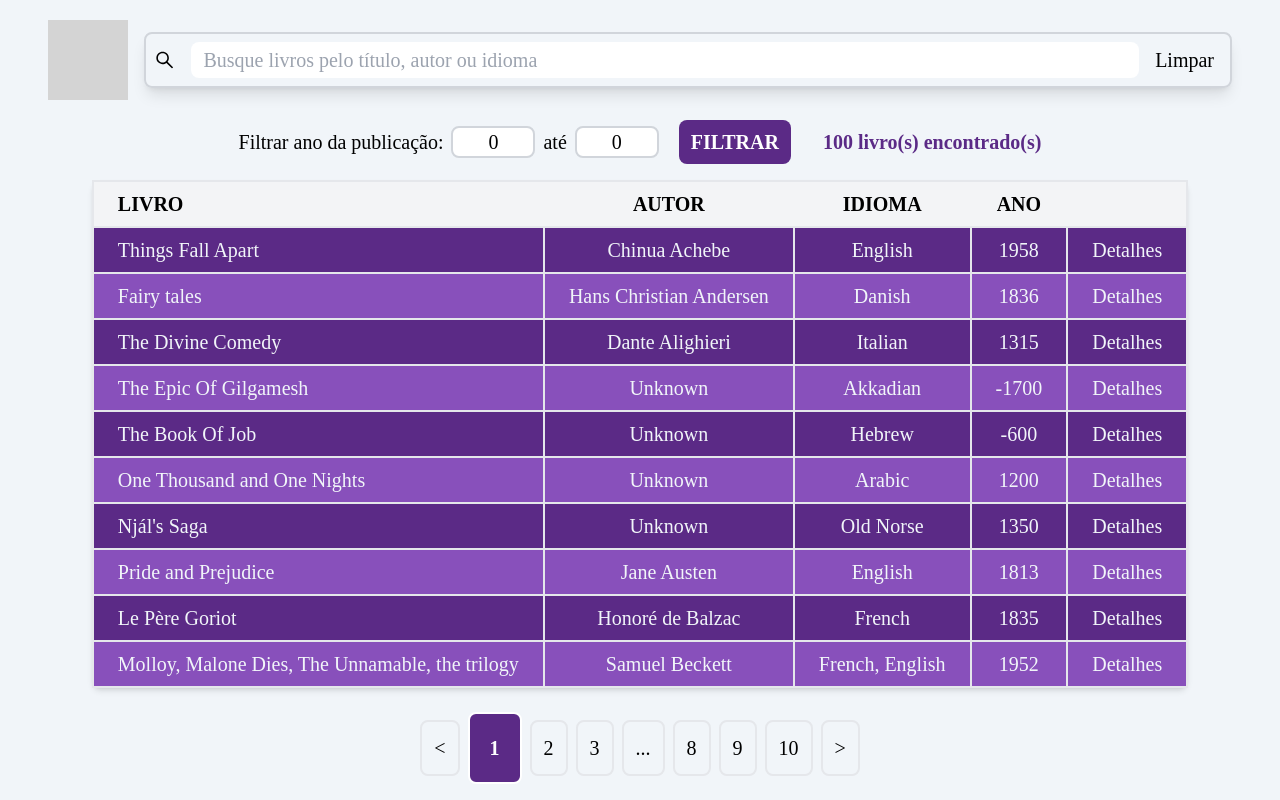
tests in book table › tests in pagination list › should render 10 different books when the pagination button is clicked
Click the list item ">" at (841, 748), box [821, 720, 860, 776]
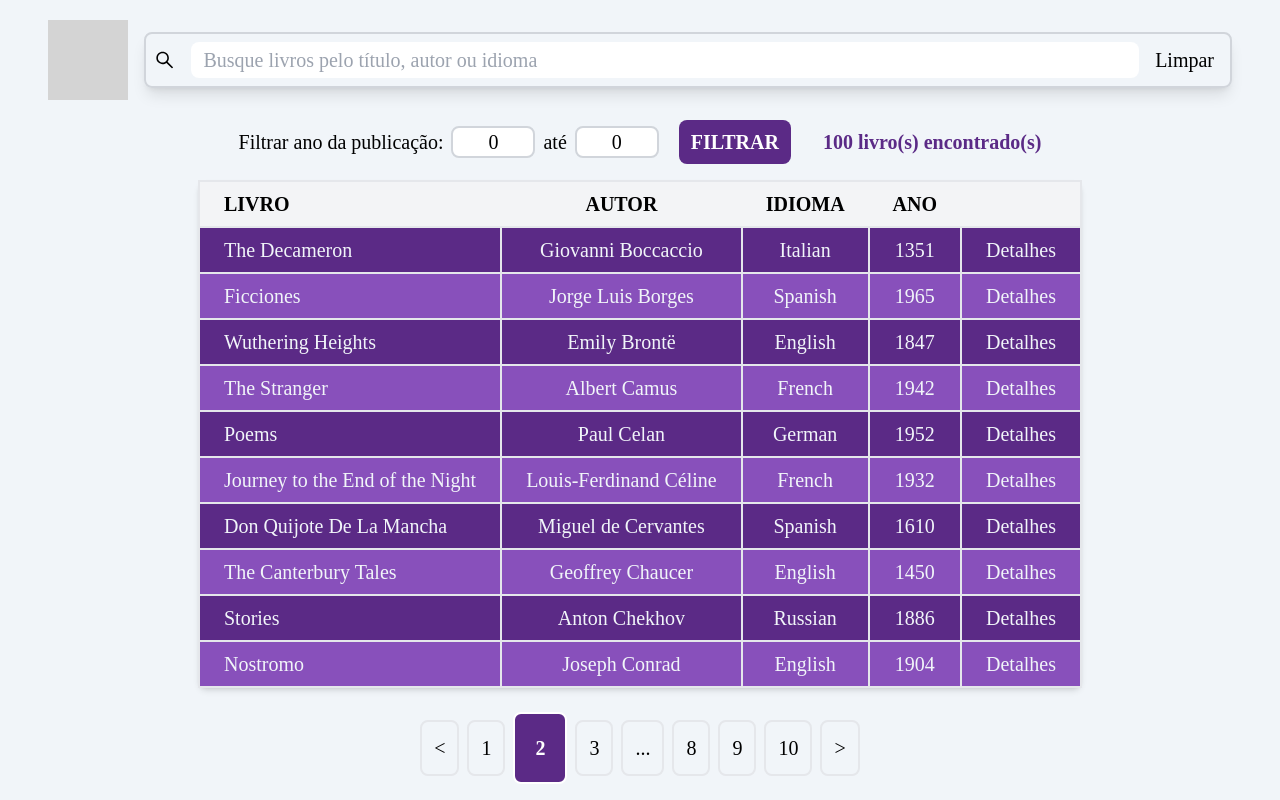
Check: the text "The Decameron" is shown, box [199, 227, 501, 273]
